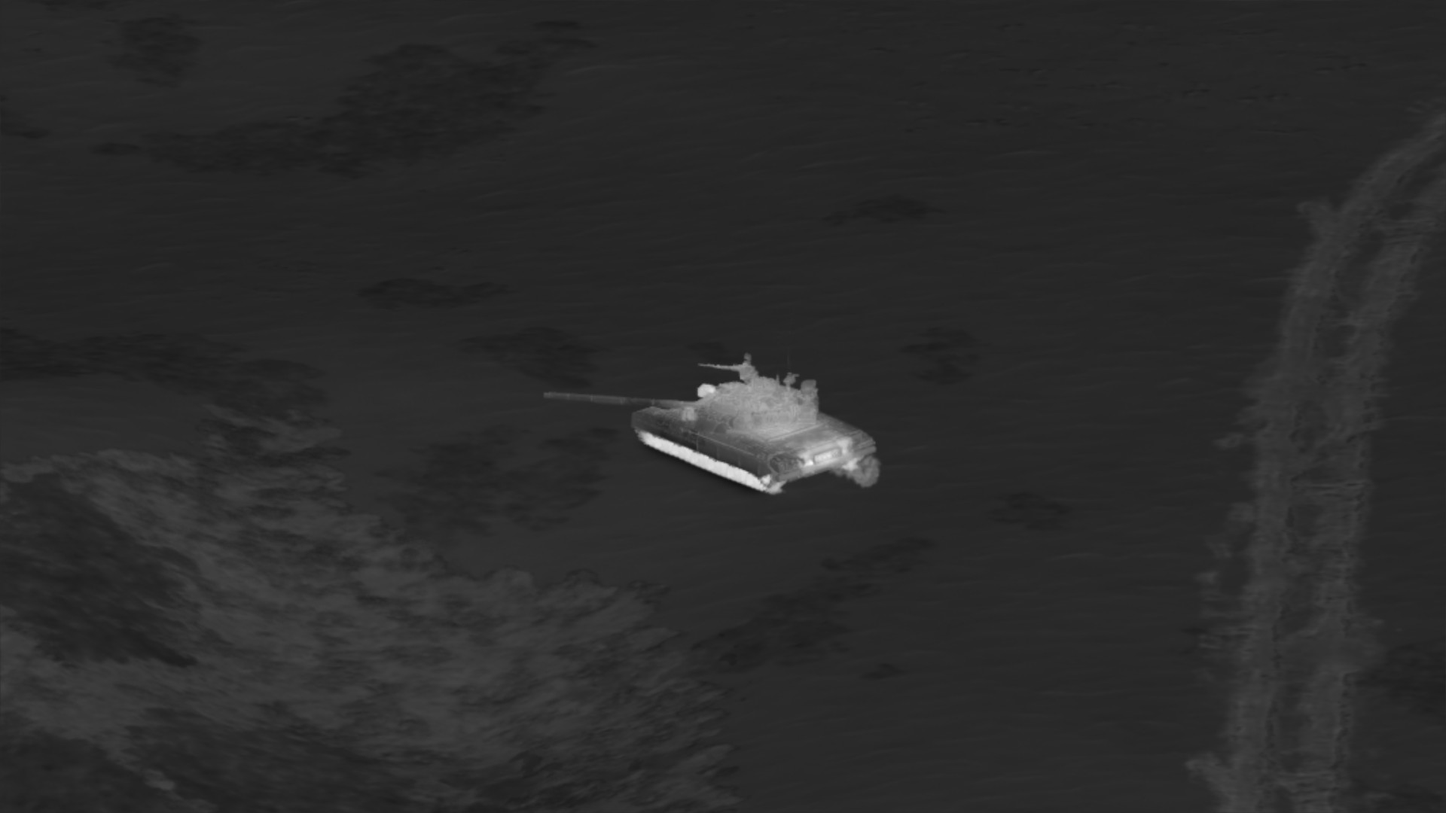t-80u: (540, 356, 879, 496)
